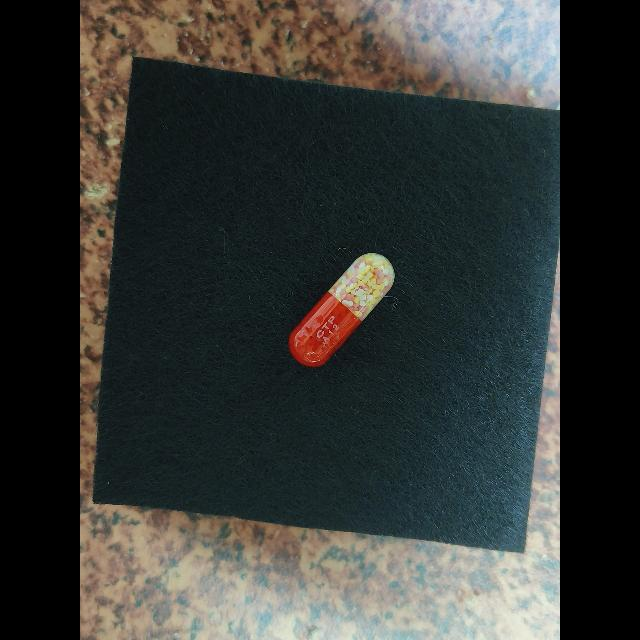Intact Capsule: (288, 252, 395, 367)
